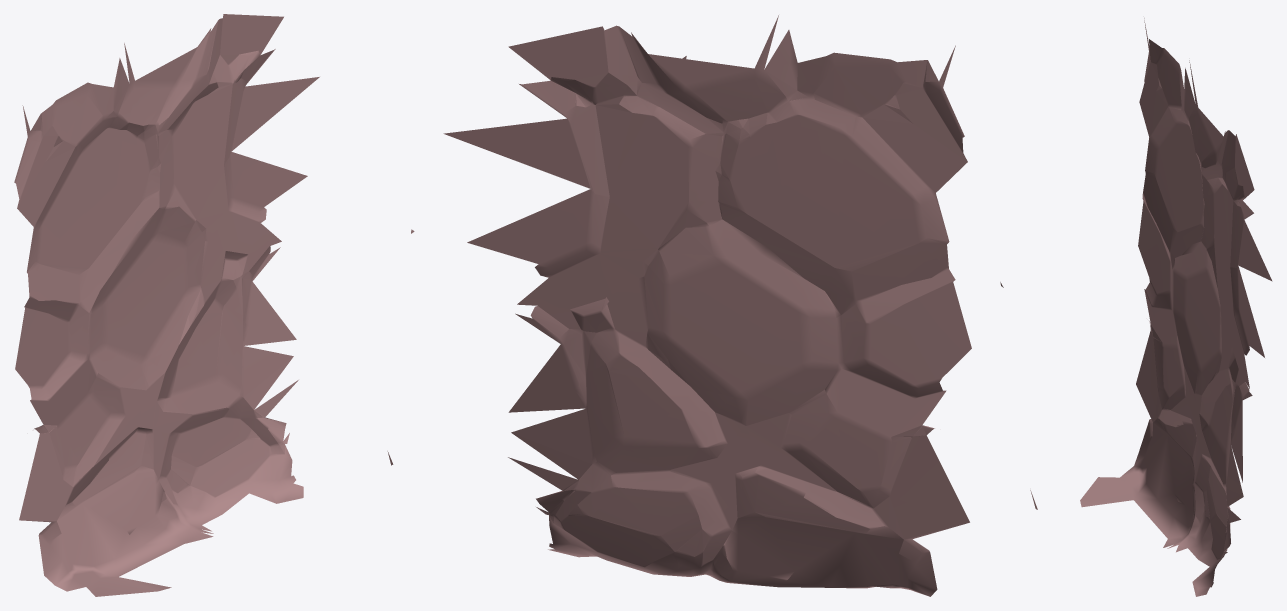
The model's file is canyon.fbx_PolyShape__3__003LODs.fbx.
3 renders of one model, left to right at view 1: azimuth 30°, elevation 25°; view 2: azimuth 150°, elevation 25°; view 3: azimuth 270°, elevation 25°, orthographic. The views are drawn at different scales.
Visible parts, largest first — view 1: PolyShape (3).003_LOD0; view 2: PolyShape (3).003_LOD0; view 3: PolyShape (3).003_LOD0.
Boxes of the visible parts, bbox=[...] form: PolyShape (3).003_LOD0: bbox=[14, 14, 414, 596]; PolyShape (3).003_LOD0: bbox=[443, 15, 971, 596]; PolyShape (3).003_LOD0: bbox=[1000, 18, 1272, 596].
Size of what is drawn, in the model's own units: 2816 by 3588 by 1927.
